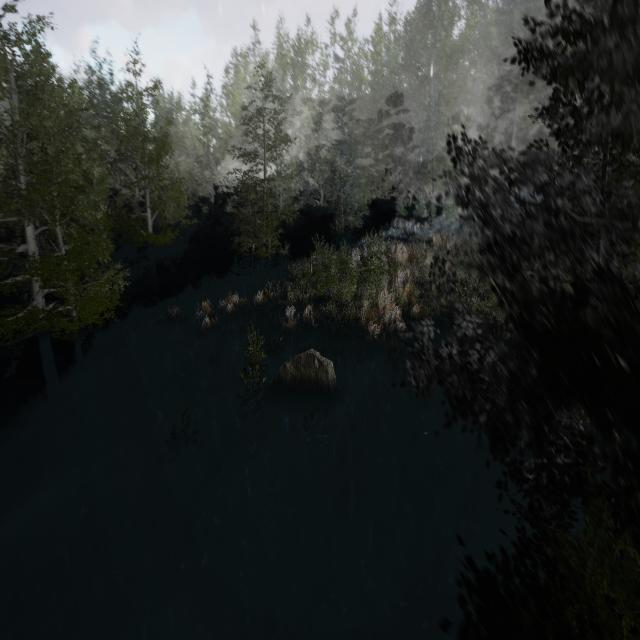Human: (290, 300, 320, 342)
